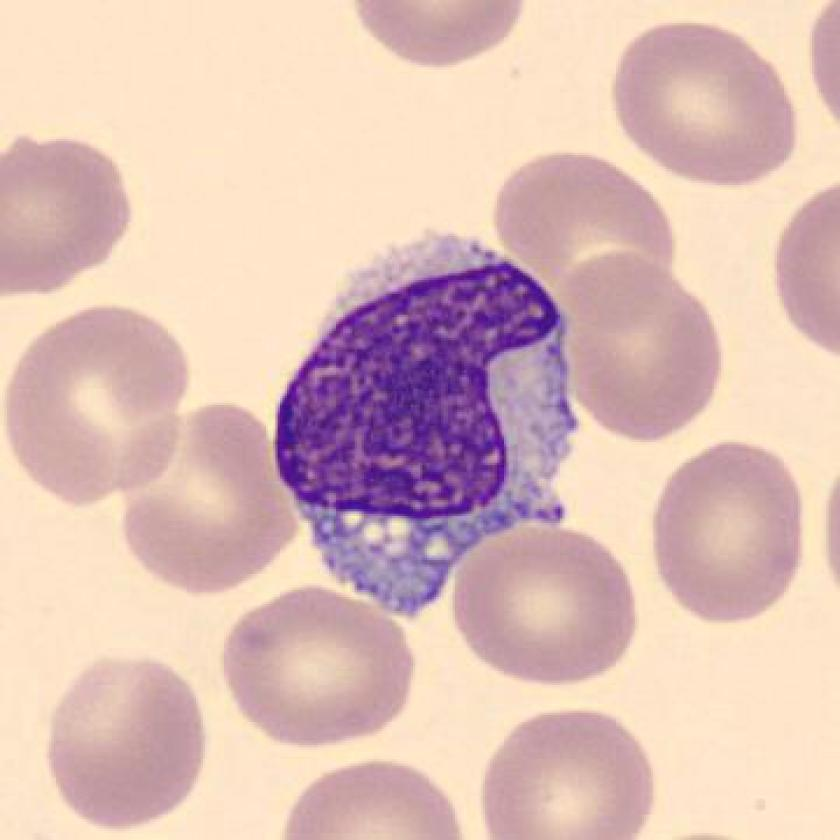monocyte: (251, 205, 610, 644)
